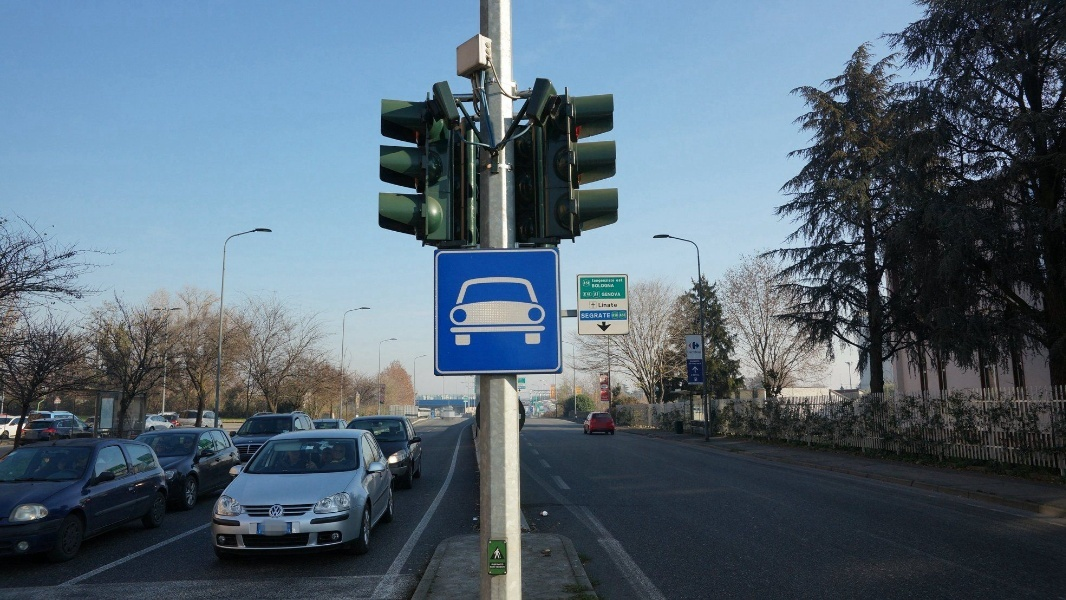text: (274, 507, 288, 517), (593, 283, 608, 288), (593, 313, 608, 318), (593, 279, 608, 283), (609, 292, 621, 297), (689, 361, 704, 365), (594, 292, 608, 296), (56, 397, 64, 404), (519, 378, 528, 384), (582, 313, 592, 318), (599, 303, 608, 308), (609, 303, 618, 308), (613, 313, 624, 317), (242, 463, 256, 466), (519, 386, 528, 390), (689, 351, 701, 354), (577, 387, 581, 395), (609, 283, 615, 288), (602, 292, 608, 297), (584, 282, 592, 285), (609, 279, 615, 283), (616, 279, 624, 282), (584, 293, 592, 296), (609, 313, 612, 318), (689, 383, 704, 384), (621, 313, 624, 317), (625, 313, 626, 317)
